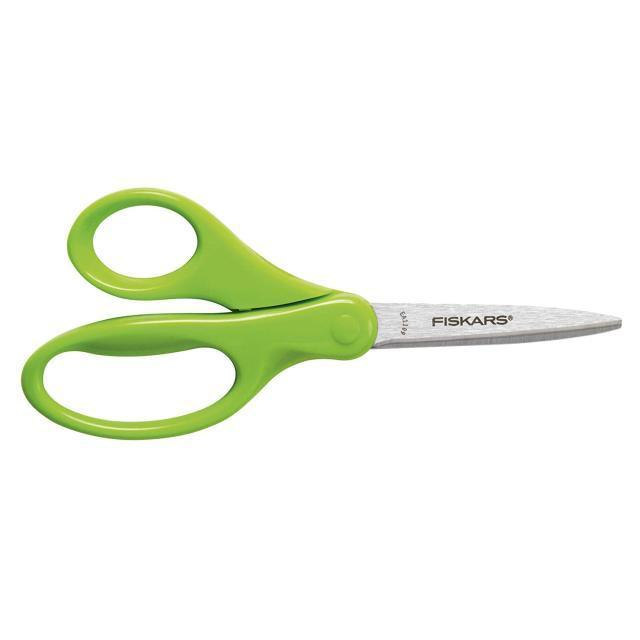Gunting: (19, 190, 623, 439)
